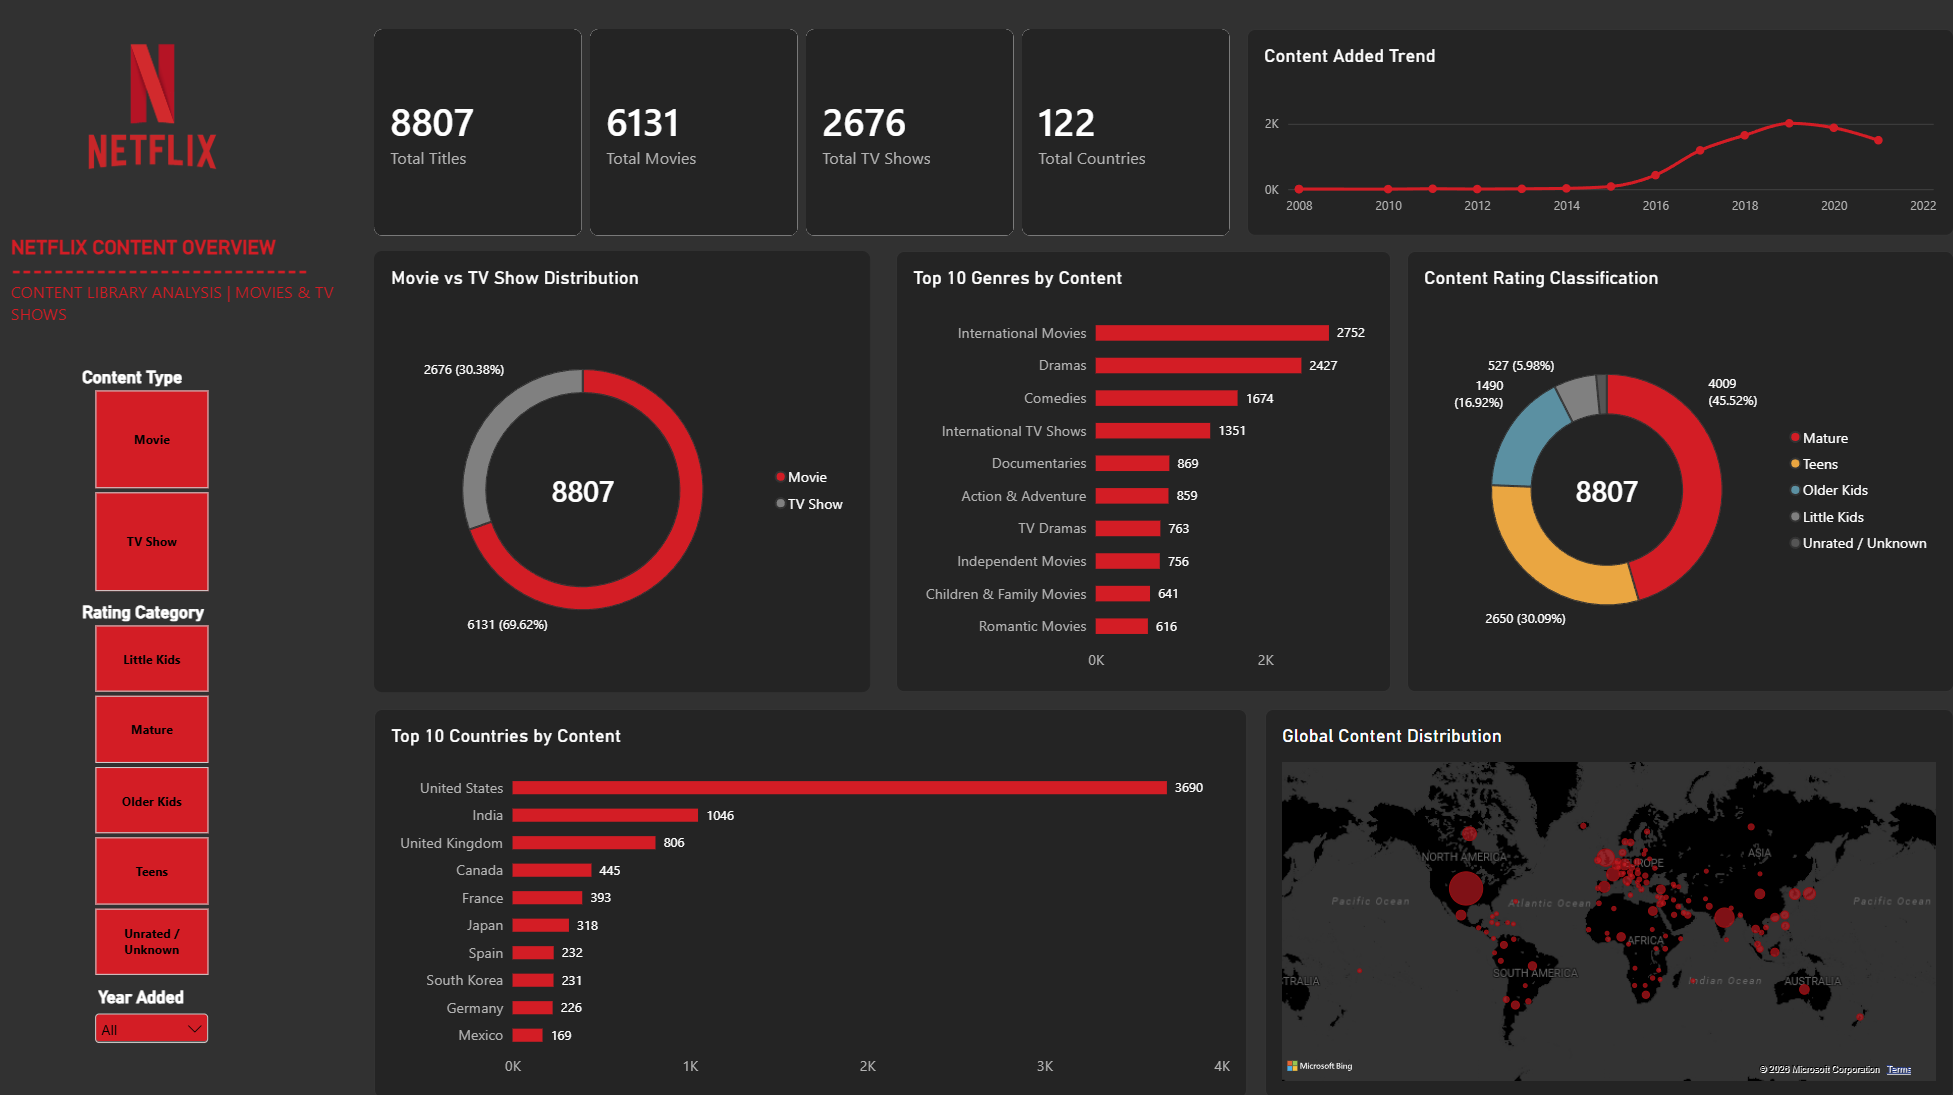

The dashboard page shown, as its layout file describes it:
{"tool":"powerbi","page":{"name":"01 - Netflix Overview","canvas":[1920,1080],"ordinal":0},"visuals":[{"type":"cardVisual","fields":{"Data":["data_measures.Total Titles","data_measures.Total Movies","data_measures.Total TV Shows","data_measures.Total Countries"]},"box":[369.2,30,842.3,203.3],"z":0},{"type":"donutChart","title":"Movie vs TV Show Distribution","fields":{"Category":["netflix_main.type"],"Y":["data_measures.Total Titles"]},"box":[369.2,248.3,487,433.4],"z":1000},{"type":"lineChart","title":"Content Added Trend","fields":{"Category":["DimDate.Year"],"Y":["data_measures.Total Content Added"]},"box":[1226.5,30,693.5,203.3],"z":2000},{"type":"clusteredBarChart","title":"Top 10 Countries by Content","fields":{"Category":["netflix_country.country"],"Y":["data_measures.Total Titles by Country"]},"box":[369.2,697.8,857.3,382.1],"z":3000},{"type":"clusteredBarChart","title":"Top 10 Genres by Content","fields":{"Category":["netflix_genre.listed_in"],"Y":["data_measures.Total Titles by Genre"]},"box":[881.9,248.3,485.9,433.4],"z":4000},{"type":"image","box":[18.2,17.1,265.4,179.8],"z":6000},{"type":"map","title":"Global Content Distribution","fields":{"Category":["netflix_country.country"],"Size":["data_measures.Total Titles by Country"]},"box":[1243.6,697.8,676.4,382.1],"z":6001},{"type":"slicer","fields":{"Values":["netflix_main.type"]},"box":[74.9,361.7,150.9,221.5],"z":6003},{"type":"slicer","fields":{"Values":["netflix_main.Rating Category"]},"box":[74.9,592.9,150.9,368.2],"z":6004},{"type":"donutChart","title":"Content Rating Classification","fields":{"Category":["netflix_main.Rating Category"],"Y":["data_measures.Total Titles by Rating Category"]},"box":[1382.7,248.3,537.3,433.4],"z":6005},{"type":"slicer","fields":{"Values":["DimDate.Year"]},"box":[89.9,970.7,120.9,97.4],"z":6006},{"type":"textbox","box":[12.8,233.3,356.4,142.3],"z":6007}]}

Visuals, with their boxes in screenshot pixels (x1, y1, x2, y2), scaled from the page's 1920x1080 canvas onto the 1953x1095 screenshot:
cardVisual - data_measures.Total Titles x data_measures.Total Movies: crop(376, 30, 1232, 237)
"Movie vs TV Show Distribution" donutChart: crop(376, 252, 871, 691)
"Content Added Trend" lineChart: crop(1248, 30, 1952, 237)
"Top 10 Countries by Content" clusteredBarChart: crop(376, 707, 1248, 1094)
"Top 10 Genres by Content" clusteredBarChart: crop(897, 252, 1391, 691)
image: crop(19, 17, 288, 200)
"Global Content Distribution" map: crop(1265, 707, 1952, 1094)
slicer - netflix_main.type: crop(76, 367, 230, 591)
slicer - netflix_main.Rating Category: crop(76, 601, 230, 974)
"Content Rating Classification" donutChart: crop(1406, 252, 1952, 691)
slicer - DimDate.Year: crop(91, 984, 214, 1083)
textbox: crop(13, 237, 376, 381)
